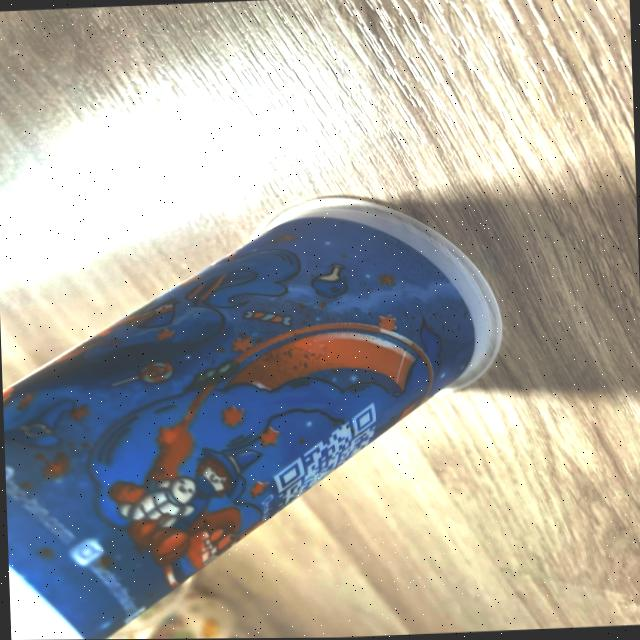Plastic Cup: (3, 199, 500, 640)
